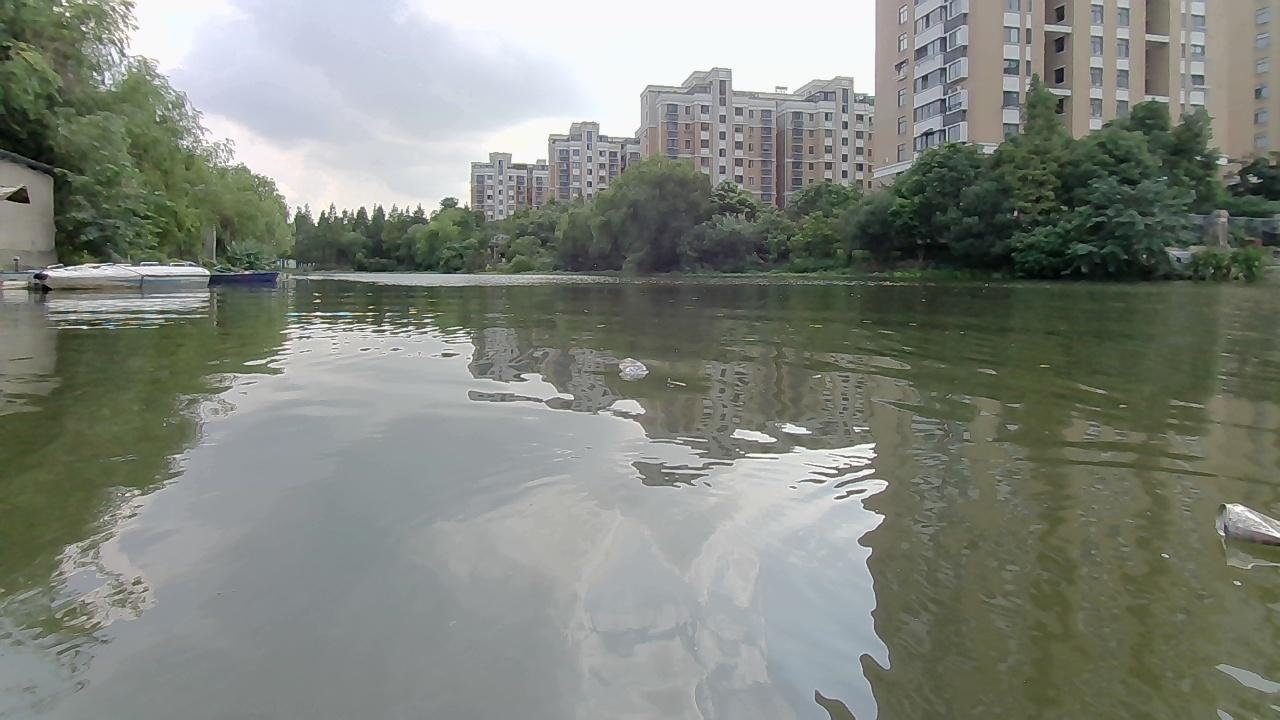bottle: (1212, 499, 1279, 541), (612, 354, 644, 375)
